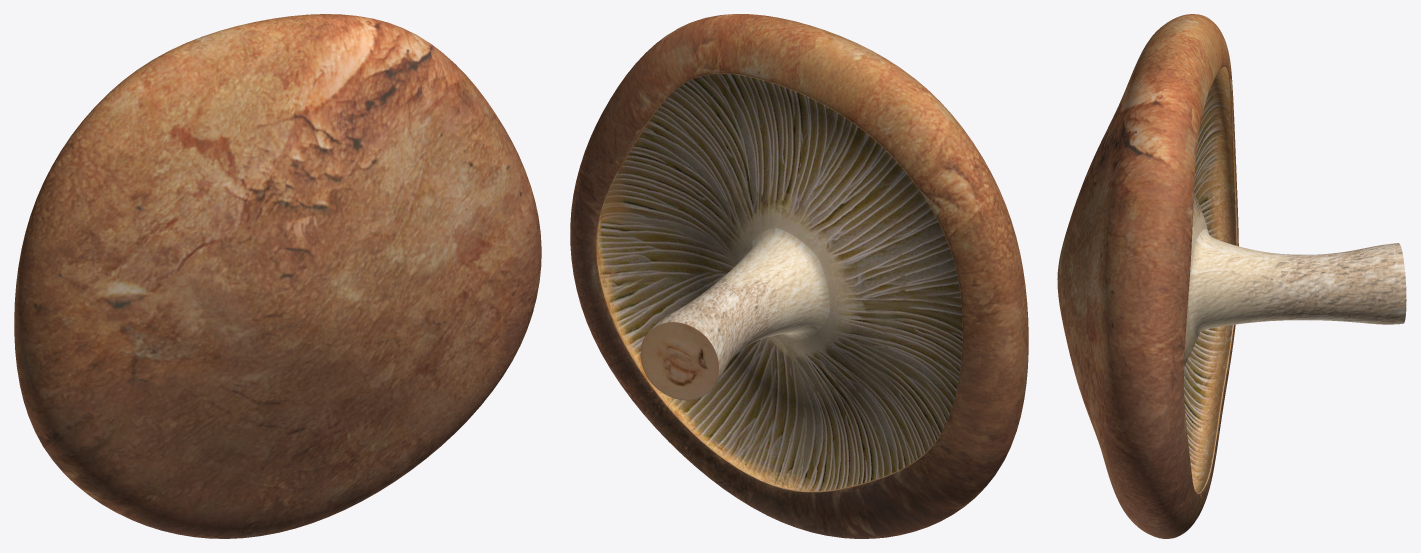
The model's file is 10192_MushroomShitake_v1-L3.obj.
The picture shows the model from 3 angles, left to right: view 1: azimuth 30°, elevation 25°; view 2: azimuth 150°, elevation 25°; view 3: azimuth 270°, elevation 25°; orthographic projection. The views are drawn at different scales.
Parts seen in each view (by area): view 1: Shiitake_Mesh; view 2: Shiitake_Mesh; view 3: Shiitake_Mesh.
Part boxes in pixels (x1,y1,x2,y2): Shiitake_Mesh: [14, 14, 541, 538]; Shiitake_Mesh: [570, 14, 1028, 538]; Shiitake_Mesh: [1057, 14, 1406, 538].
Bounding box in the file's own units: 5.48 × 5.45 × 3.64.
1 material, 1 textured.
